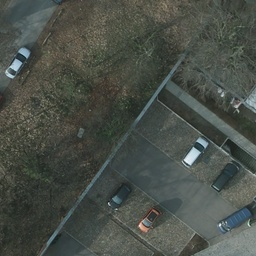car: (209, 163, 240, 192), (106, 182, 135, 212), (181, 138, 209, 167), (6, 46, 29, 79), (139, 205, 160, 233), (0, 90, 4, 121), (52, 0, 75, 2)
van: (217, 202, 251, 236)
